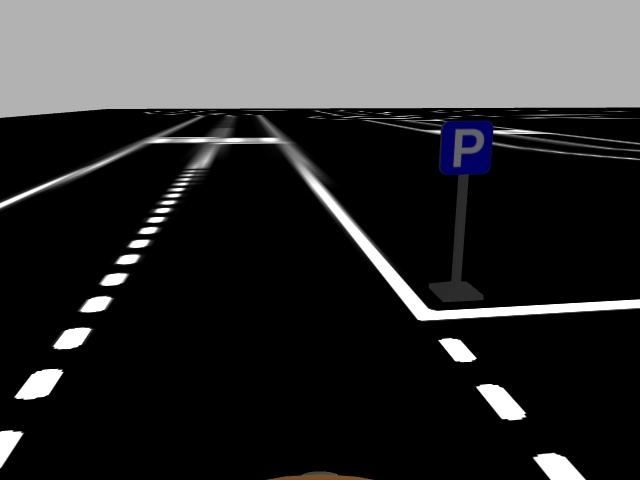parking: (439, 118, 494, 177)
